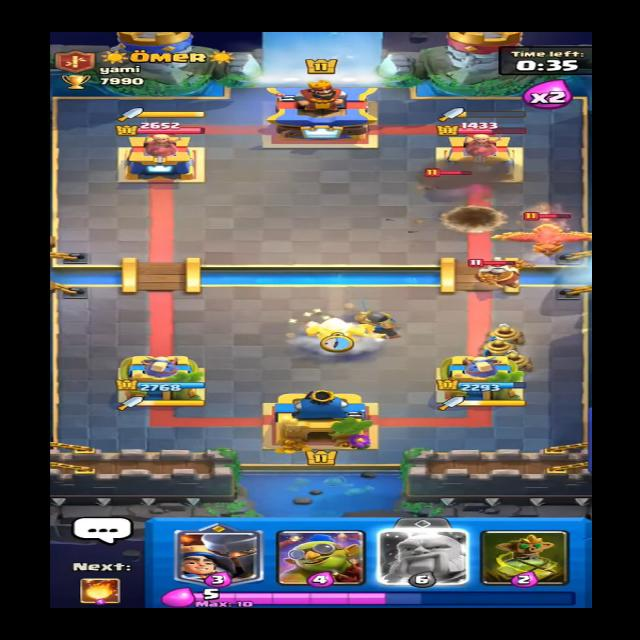mini-pekka: (426, 170, 473, 193)
monk: (466, 256, 536, 286)
phoenix: (493, 211, 605, 261)
